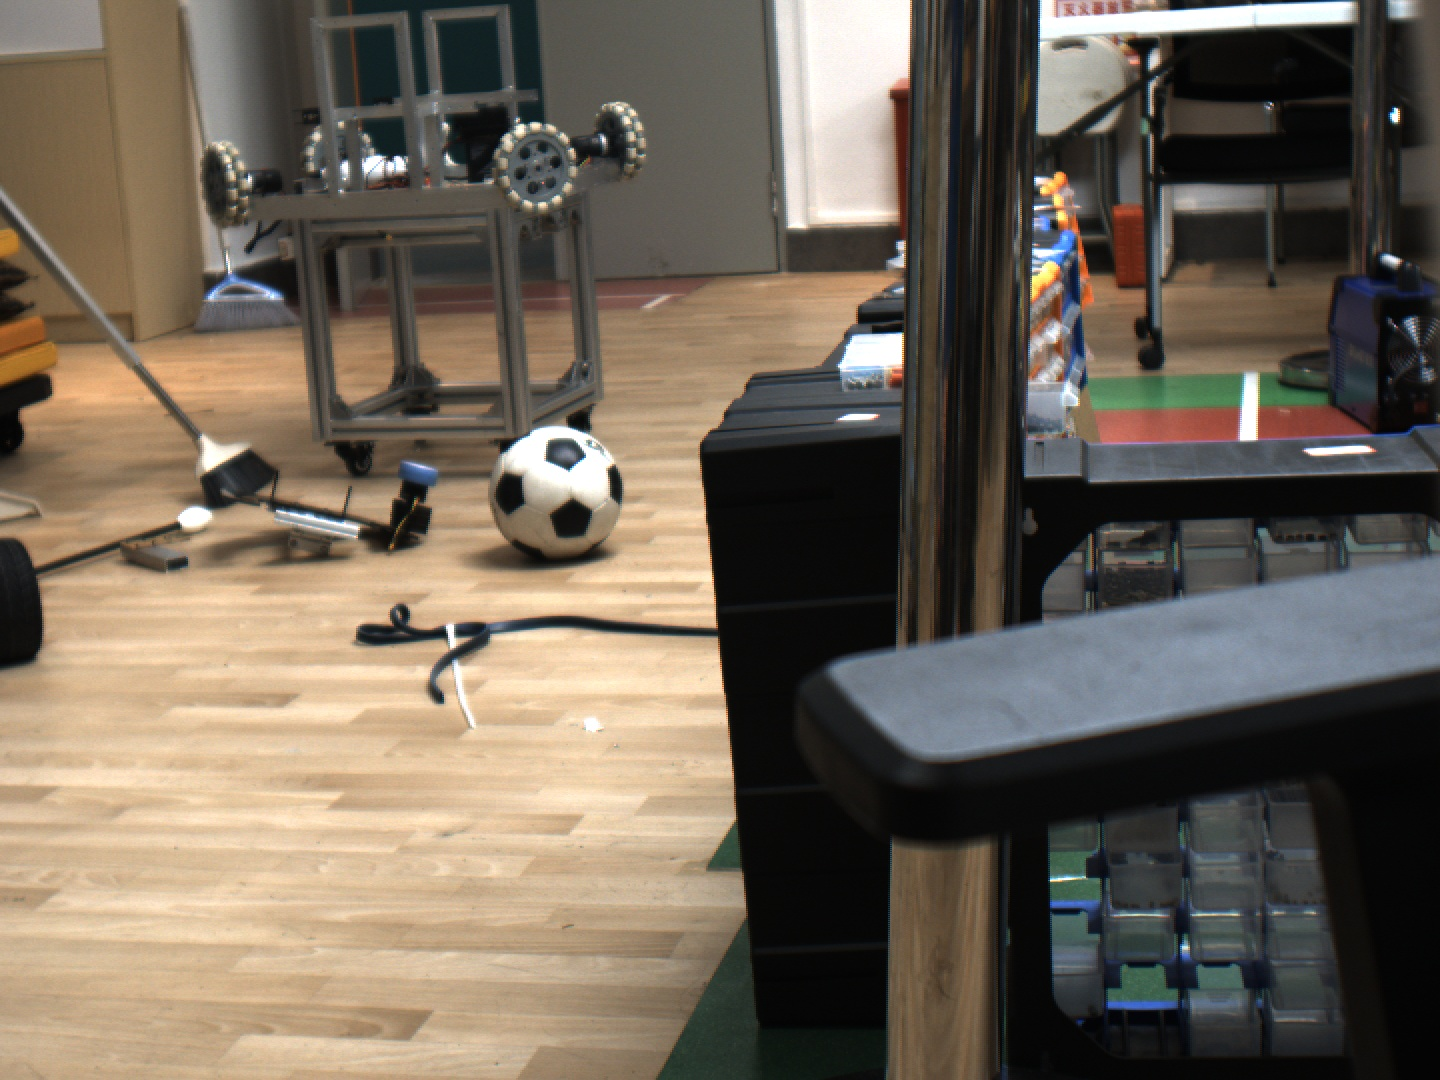ball: (483, 427, 635, 562)
